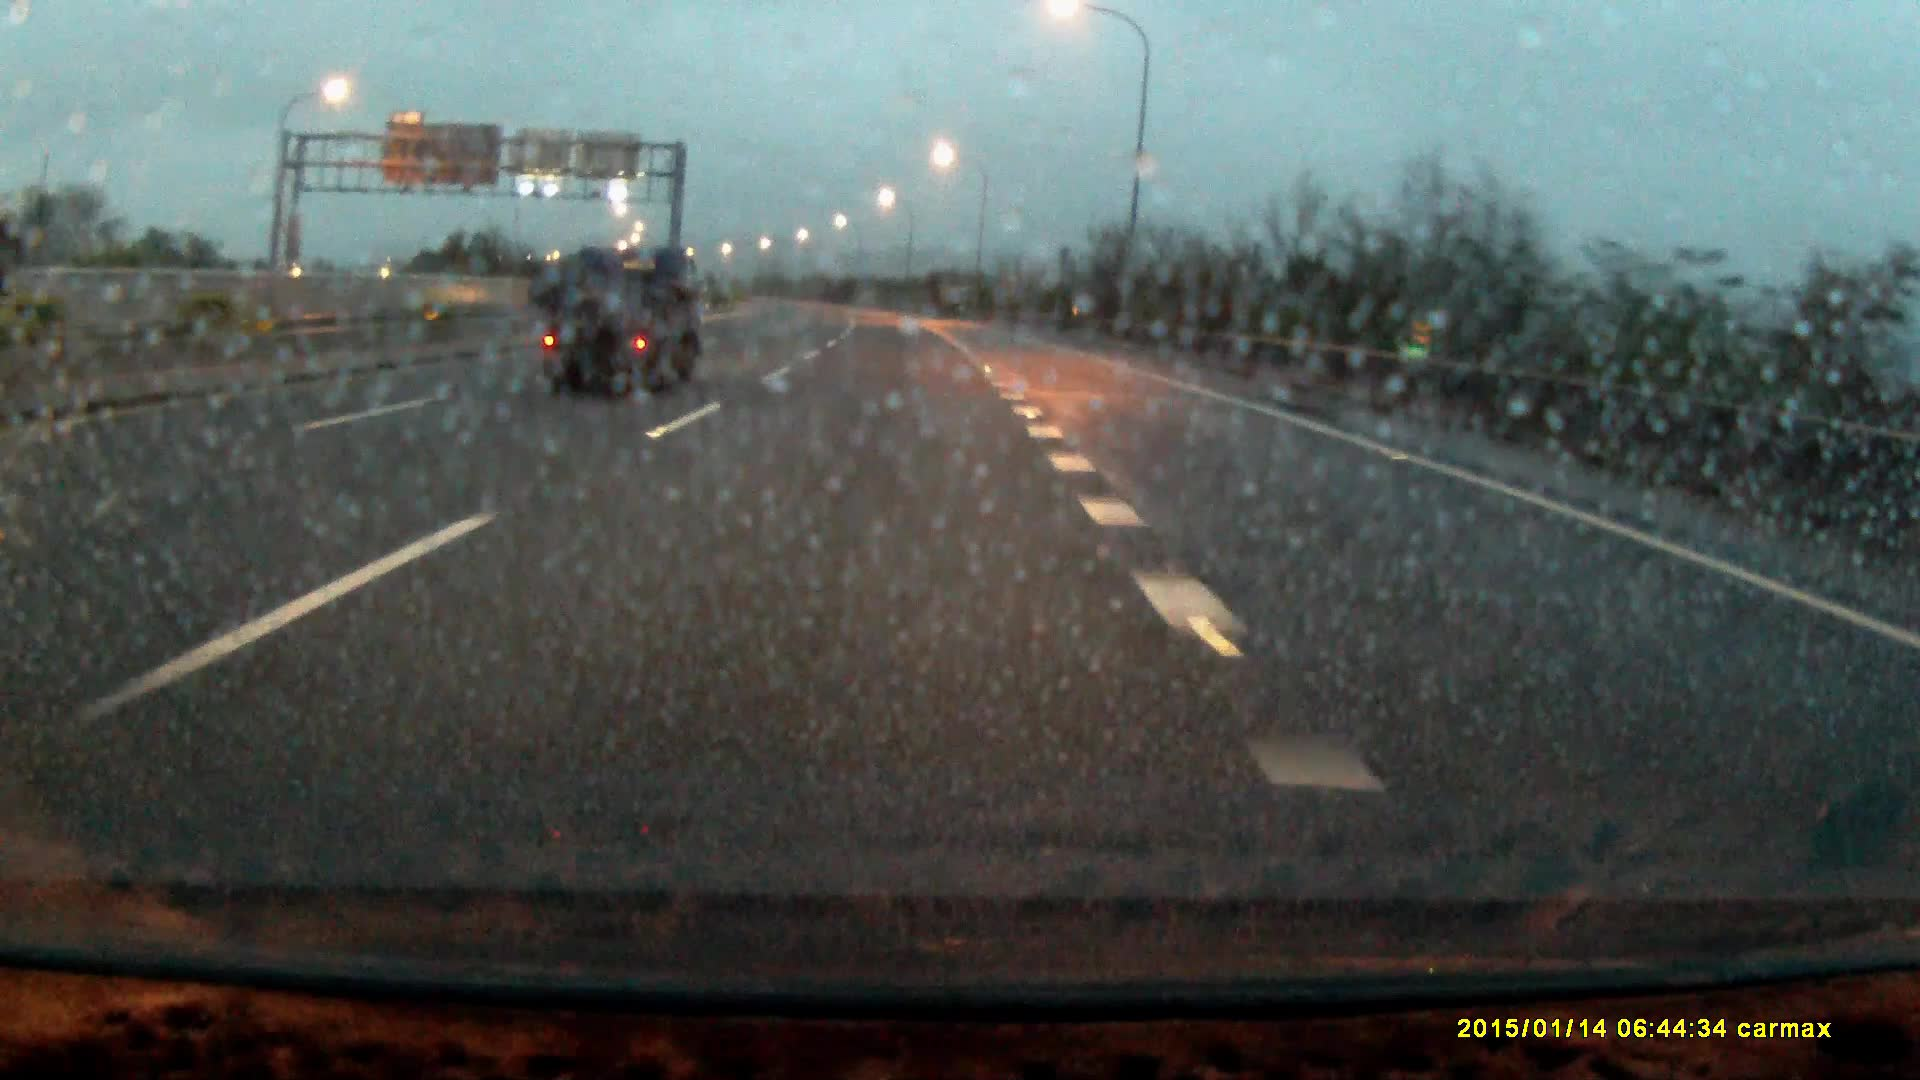vehicle: (535, 252, 709, 400)
